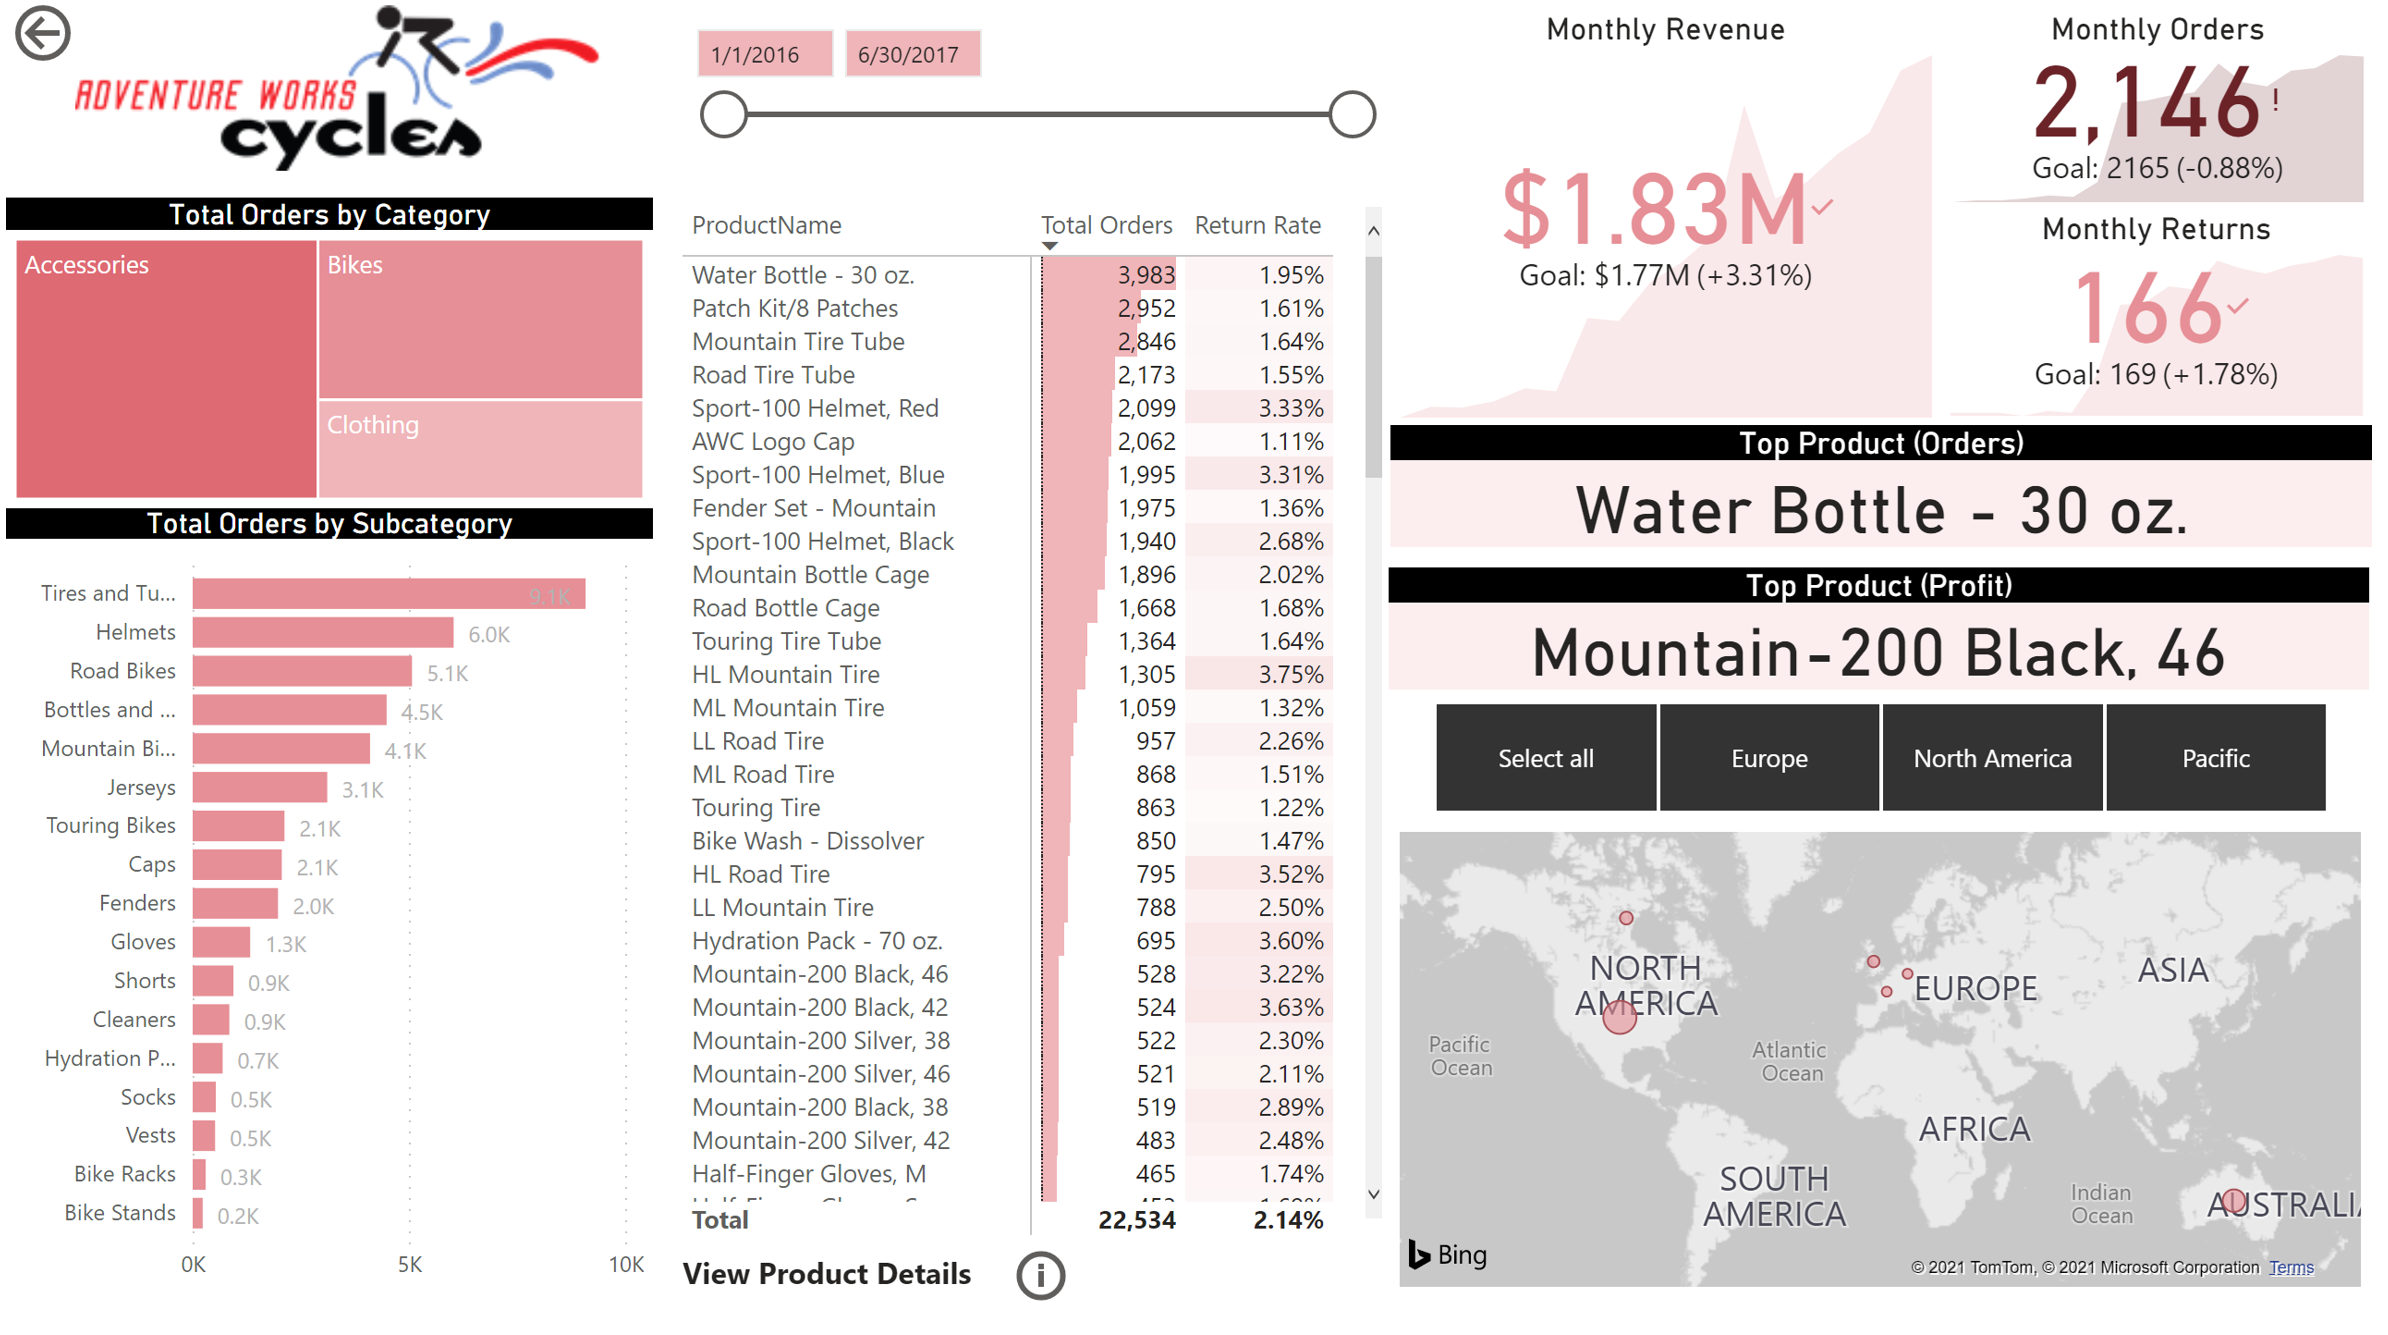

Layout of this report page (visuals, bound fields, positions):
{"tool":"powerbi","page":{"name":"Executive Sumary","canvas":[1280,720],"ordinal":0},"visuals":[{"type":"image","box":[0,0,361,99.6],"z":0},{"type":"barChart","title":"Total Orders by Subcategory","fields":{"Y":["AW_Sales2015-2017.Total Orders"],"Category":["AW_Product_Subcategories_Lookup.SubcategoryName"]},"box":[0,276.4,350.2,427.9],"z":1000},{"type":"treemap","title":"Total Orders by Category","fields":{"Group":["AW_Product_Subcategories_Lookup.SubcategoryName","AW_Product_Categories_Lookup.CategoryName"],"Values":["AW_Sales2015-2017.Total Orders"]},"box":[0,108.6,350.2,168.2],"z":2000},{"type":"pivotTable","fields":{"Rows":["AW_Product_Categories_Lookup.CategoryName","AW_Product_Subcategories_Lookup.SubcategoryName","AW_Product_lookup.ProductName"],"Values":["AW_Sales2015-2017.Total Orders","AW_Returns.Return Rate"]},"box":[360.9,108.6,388.4,565.8],"z":3000},{"type":"slicer","fields":{"Values":["AW_Calendar_Lookup.Date"]},"box":[361,7.7,388.4,83.1],"z":4000},{"type":"kpi","title":"Monthly Revenue","fields":{"Indicator":["AW_Sales2015-2017.Total Revenue_measure"],"TrendLine":["AW_Calendar_Lookup.Start of Month"],"Goal":["AW_Sales2015-2017.Previous Month Revenue"]},"box":[749.3,7.6,298.2,224.8],"z":5000},{"type":"kpi","title":"Monthly Orders","fields":{"TrendLine":["AW_Calendar_Lookup.Start of Month"],"Indicator":["AW_Sales2015-2017.Total Orders"],"Goal":["AW_Sales2015-2017.Prev Month Orders"]},"box":[1047.6,7.6,232.4,108.6],"z":6000},{"type":"kpi","title":"Monthly Returns","fields":{"TrendLine":["AW_Calendar_Lookup.Start of Month"],"Indicator":["AW_Returns.Total Returns"],"Goal":["AW_Sales2015-2017.Prev Month Returns"]},"box":[1047,116,233,116],"z":7000},{"type":"card","title":"Top Product (Orders)","fields":{"Values":["Min(AW_Product_lookup.ProductName)"]},"box":[748.9,231.8,531.1,66.2],"z":8000},{"type":"actionButton","box":[0,0,100,40],"z":9000},{"type":"card","title":"Top Product (Profit)","fields":{"Values":["Min(AW_Product_lookup.ProductName)"]},"box":[747.8,308.9,530.7,65.8],"z":10000},{"type":"map","fields":{"Category":["AW_Territories_Lookup.Country"],"Size":["AW_Sales2015-2017.Total Orders"]},"box":[748.9,447,529.8,256],"z":11000},{"type":"slicer","fields":{"Values":["AW_Territories_Lookup.Continent"]},"box":[747.6,375.7,531.1,71.3],"z":12000},{"type":"textbox","box":[360.9,674.4,194.2,35.2],"z":13000},{"type":"actionButton","box":[541.5,673.9,45.9,36.1],"z":14000}]}

Visuals, with their boxes in screenshot pixels (x1, y1, x2, y2), scaled from the page's 1280x720 canvas onto the 2388x1335 screenshot:
image: (0,0,673,185)
"Total Orders by Subcategory" barChart: (0,512,653,1306)
"Total Orders by Category" treemap: (0,201,653,513)
pivotTable - AW_Product_Categories_Lookup.CategoryName x AW_Product_Subcategories_Lookup.SubcategoryName: (673,201,1398,1250)
slicer - AW_Calendar_Lookup.Date: (673,14,1398,168)
"Monthly Revenue" kpi: (1398,14,1954,431)
"Monthly Orders" kpi: (1954,14,2387,215)
"Monthly Returns" kpi: (1953,215,2387,430)
"Top Product (Orders)" card: (1397,430,2387,553)
actionButton: (0,0,187,74)
"Top Product (Profit)" card: (1395,573,2385,695)
map - AW_Territories_Lookup.Country x AW_Sales2015-2017.Total Orders: (1397,829,2386,1303)
slicer - AW_Territories_Lookup.Continent: (1395,697,2386,829)
textbox: (673,1250,1036,1316)
actionButton: (1010,1250,1096,1316)
